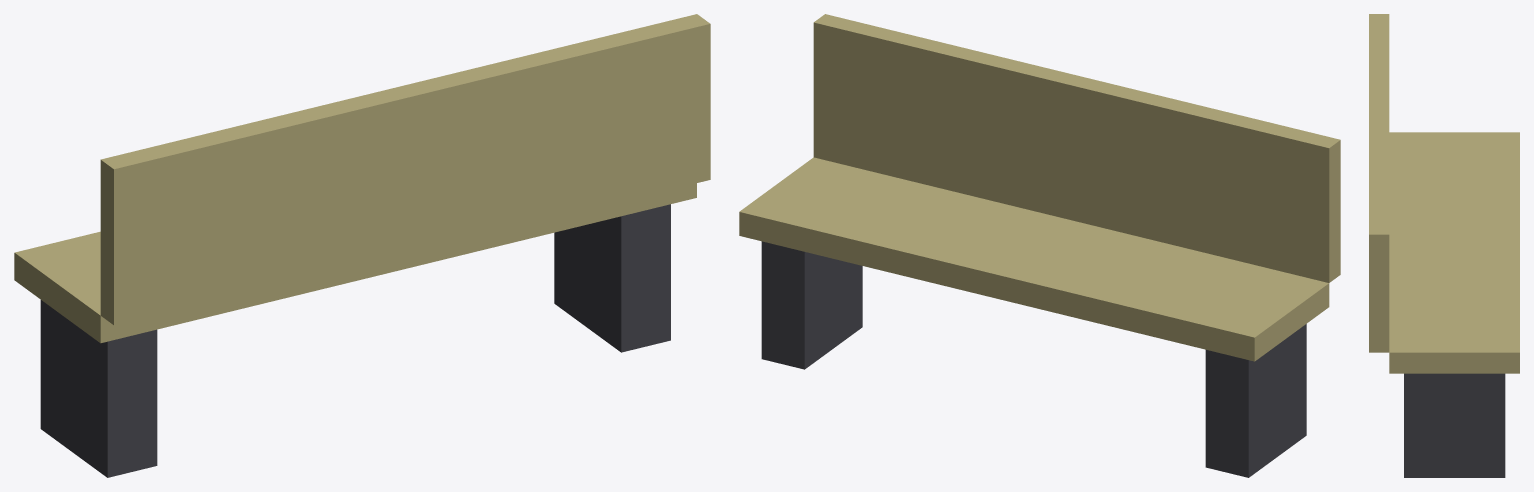
Rendered from banco_calcadao.glb.
The picture shows the model from 3 angles, left to right: view 1: azimuth 30°, elevation 25°; view 2: azimuth 150°, elevation 25°; view 3: azimuth 270°, elevation 25°; orthographic projection. The views are drawn at different scales.
Visible parts, largest first — view 1: Malha_0; view 2: Malha_0; view 3: Malha_0.
Part boxes in pixels (left/top/right/bottom): Malha_0: left=14, top=14, right=710, bottom=477; Malha_0: left=739, top=14, right=1340, bottom=477; Malha_0: left=1369, top=14, right=1519, bottom=477.
Bounding box in the file's own units: 1.8 × 0.95 × 0.52.
